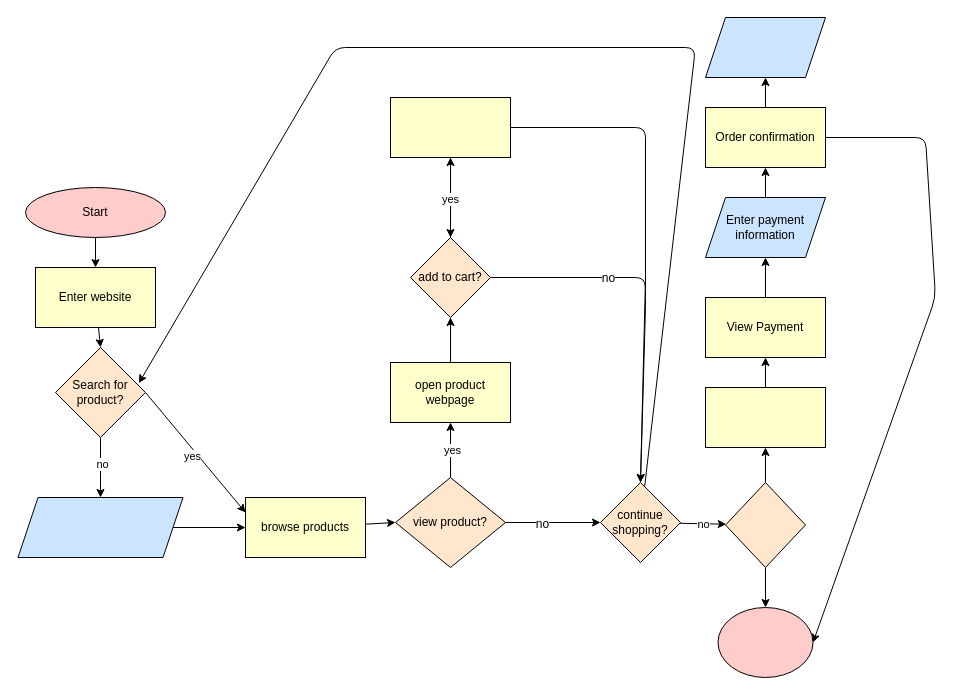
Image size: 961x695. Some labels were removed from this diagram. Here are the shapes that lost their labels. From the top down, the centre of each, then its label:
point 765,47: Email confirmation sent
point 450,127: added to cart confirmation
point 765,417: View Cart
point 100,527: search input: product name
point 765,525: checkout?
point 765,642: Leave website (end)
